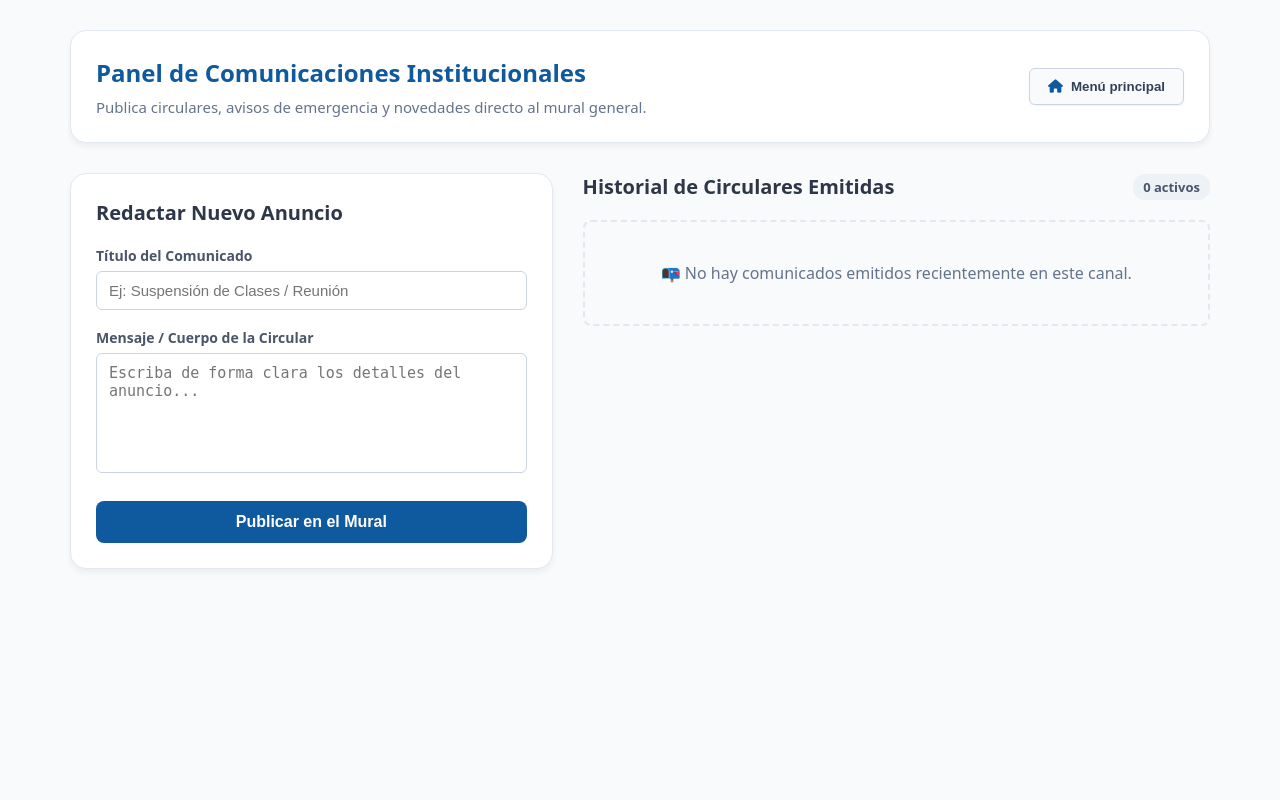
Componente de Gestión de Comunicaciones › debe enviar los datos correctamente al publicar un aviso válido
The width and height of the screenshot is (1280, 800).
Type "Urgente Suspensión" into the field with placeholder "Ej: Suspensión de Clases / Reunión" at (311, 290), box [96, 271, 527, 310]
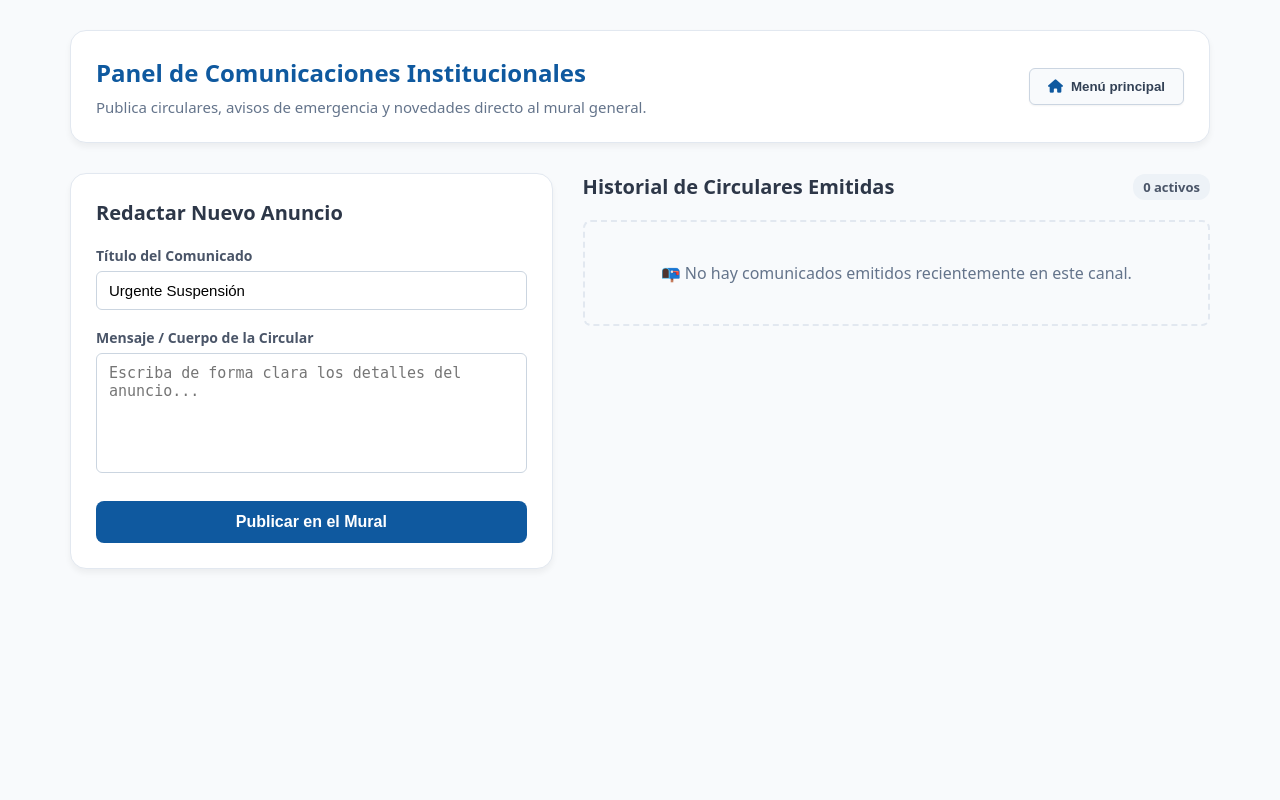
Type "No habrá clases por lluvia." into the text box with placeholder "Escriba de forma clara los detalles del anuncio..." at (311, 413), box [96, 353, 527, 473]
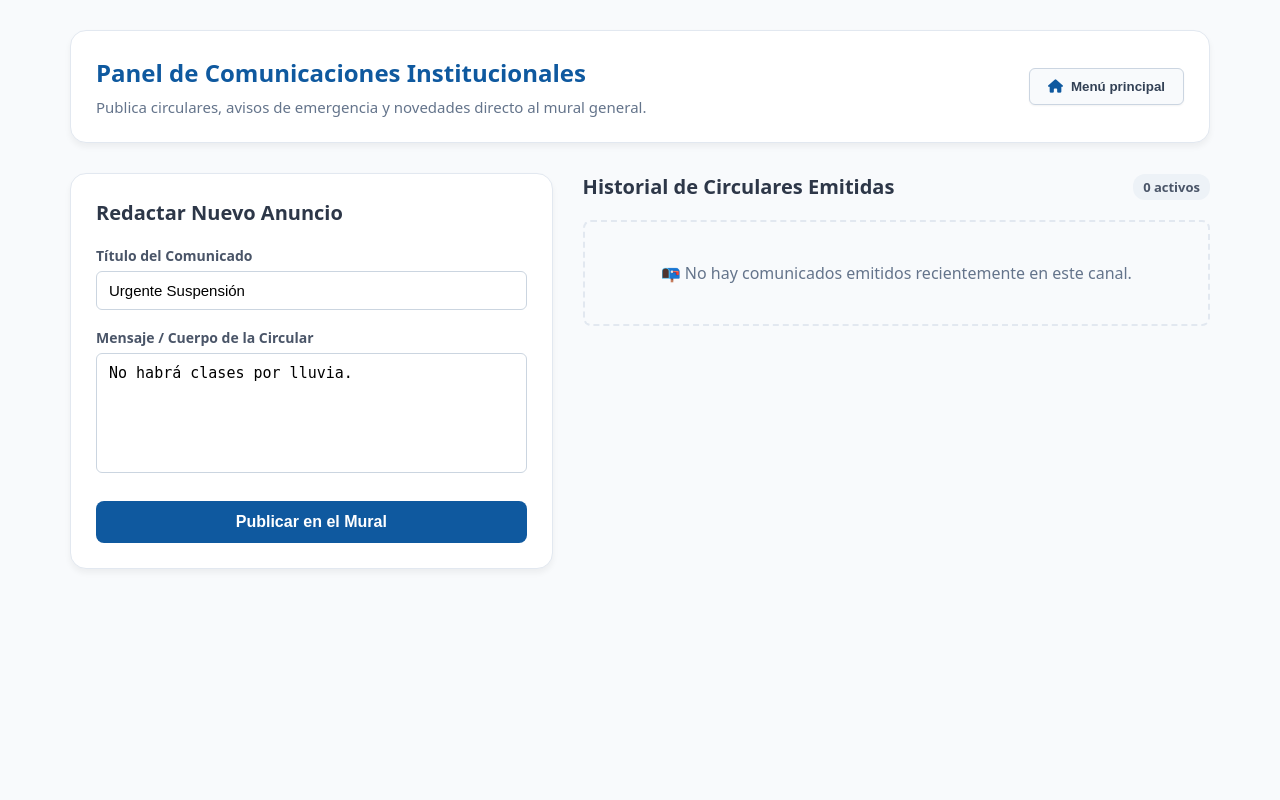
Click the button "Publicar en el Mural" at (311, 522), box [96, 501, 527, 543]
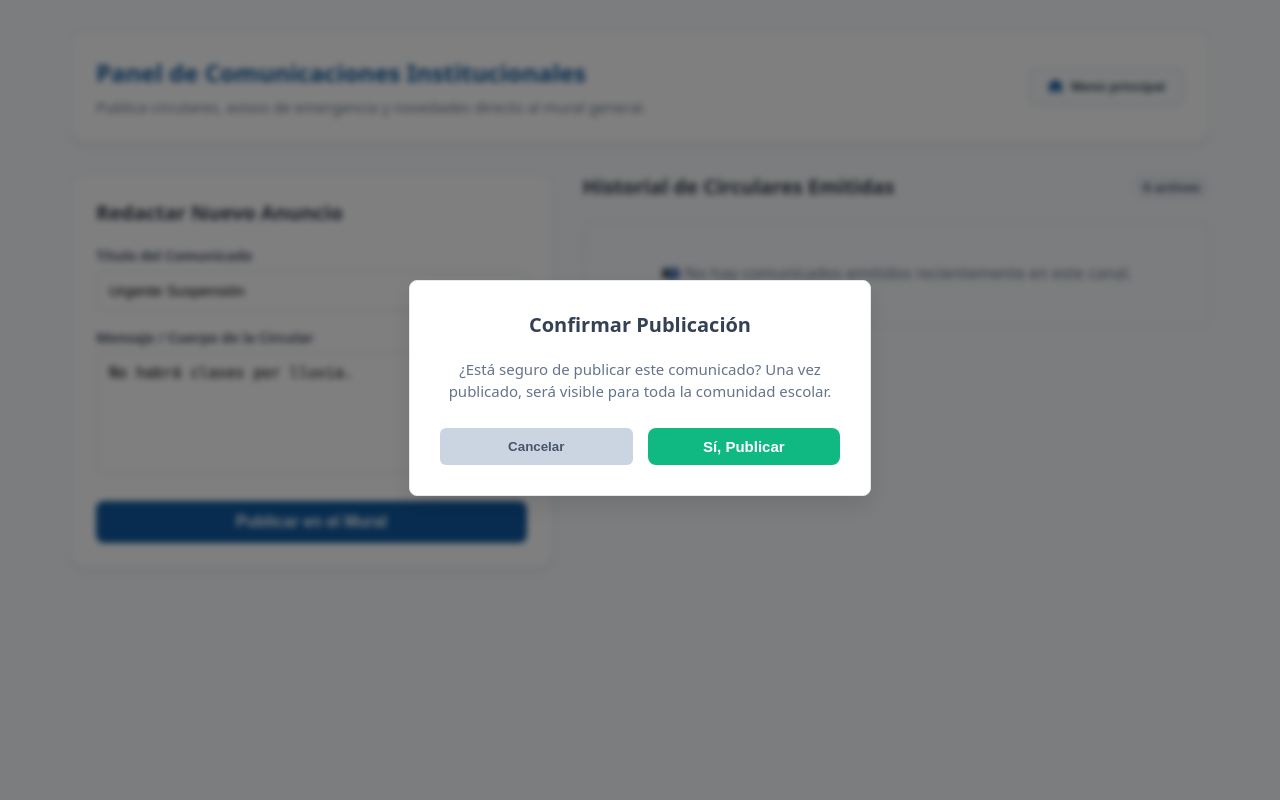
Click the button "Sí, Publicar" at (744, 446), box [648, 428, 840, 464]
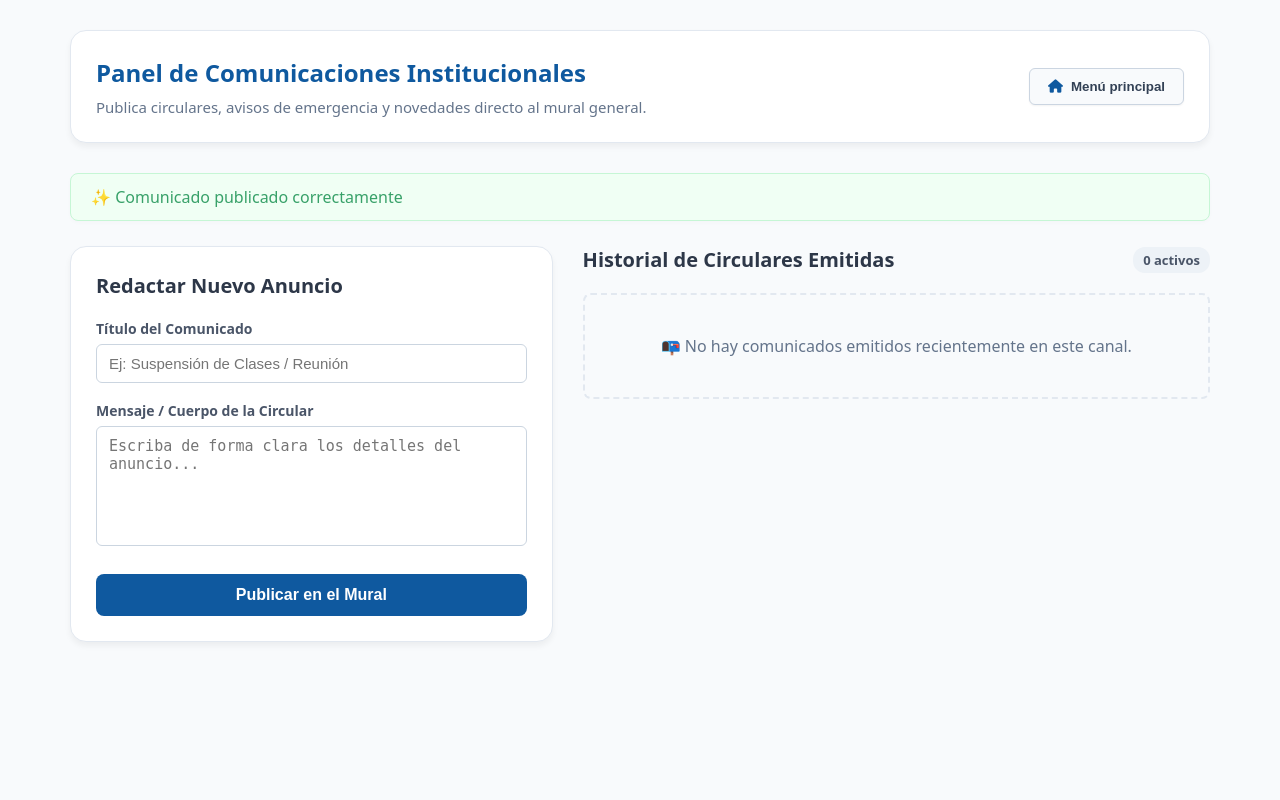
Check: the text "✨ Comunicado publicado correctamente" is shown, box [70, 173, 1210, 221]
